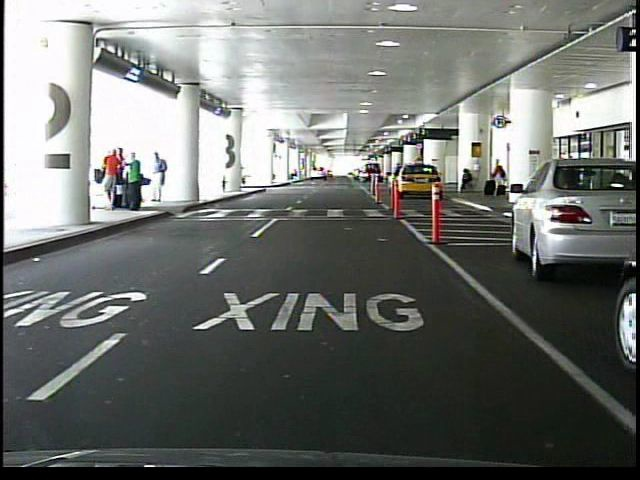person: (127, 152, 145, 213), (106, 149, 122, 210), (151, 153, 169, 206), (490, 161, 504, 199), (457, 170, 473, 196)
